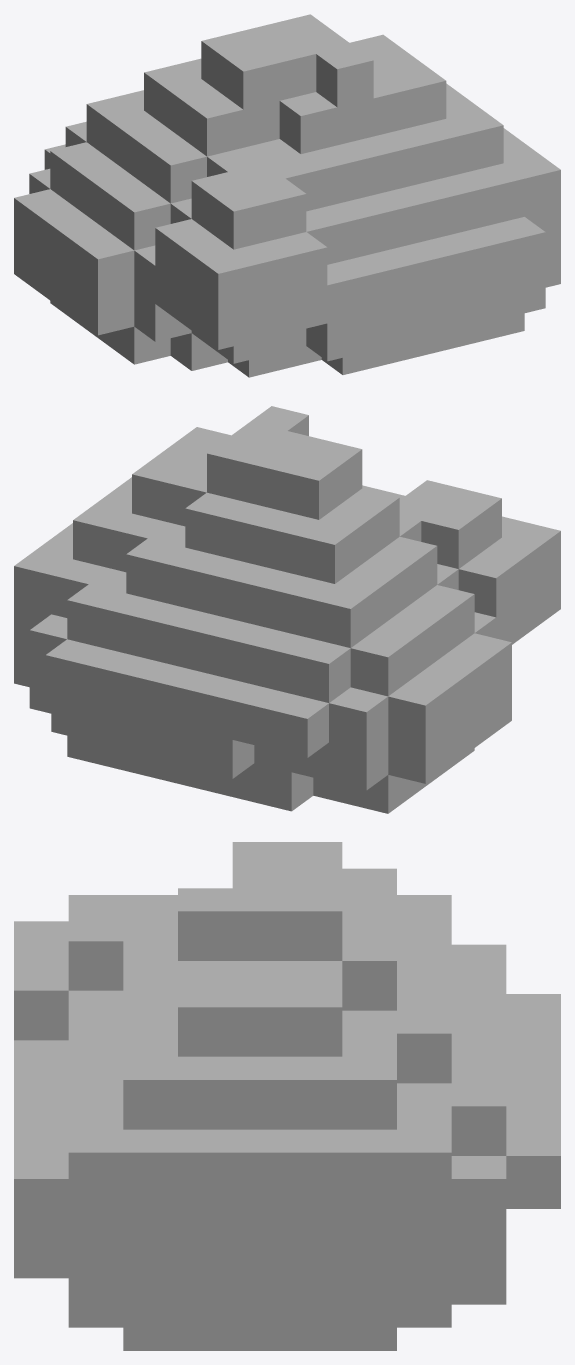
Rendered from SmallRock1.obj.
3 renders of one model, top to bottom at view 1: azimuth 30°, elevation 25°; view 2: azimuth 150°, elevation 25°; view 3: azimuth 270°, elevation 25°, orthographic. The views are drawn at different scales.
Bounding box in the file's own units: 11 × 7 × 10.
1 material, 1 textured.
